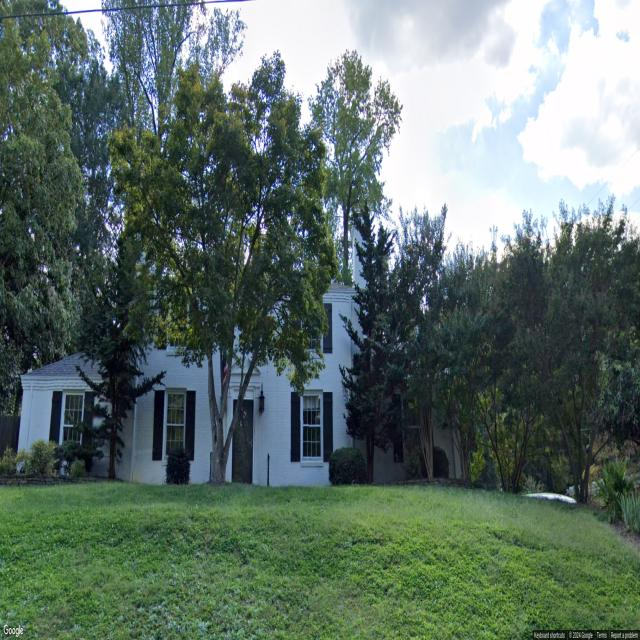House: (15, 205, 462, 487)
